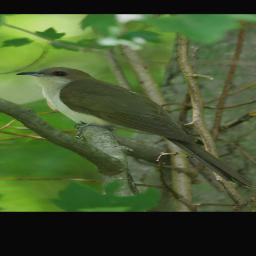Cuckoo: (14, 66, 254, 190)
